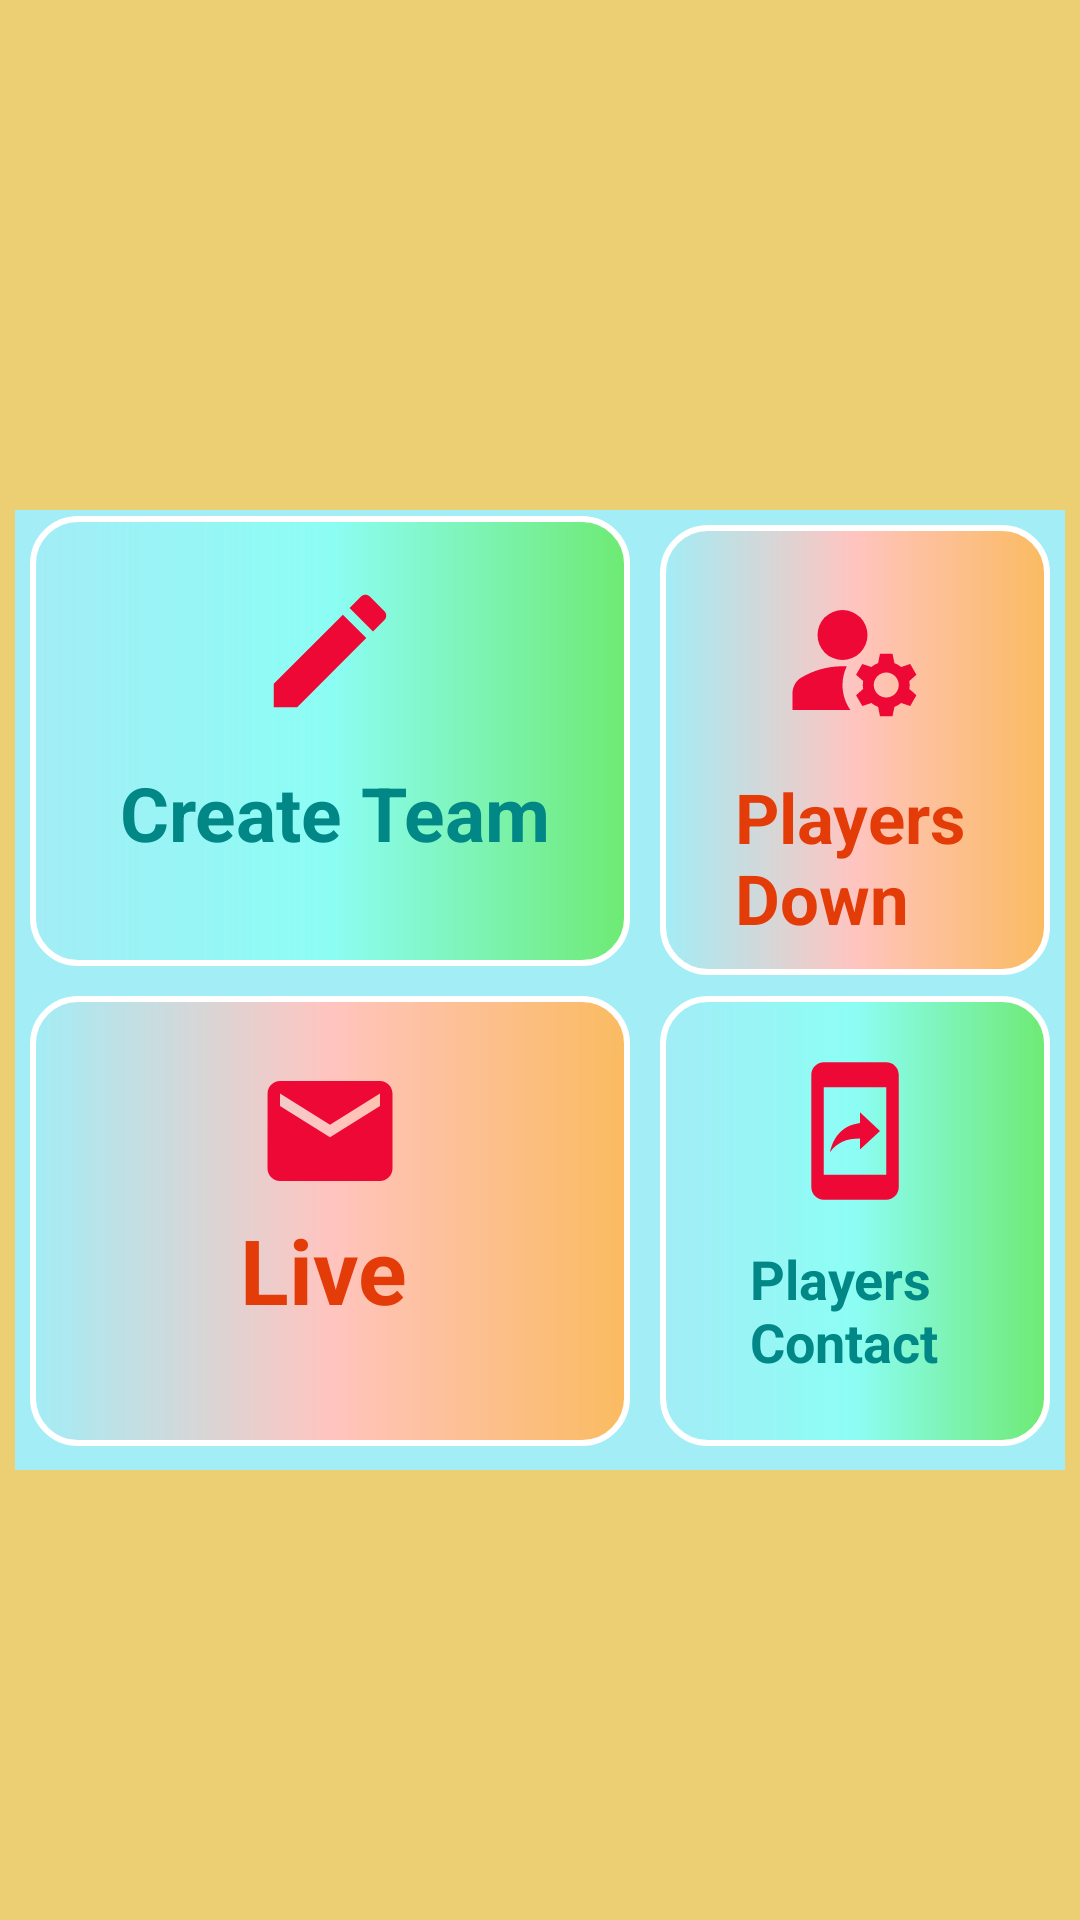

Icons on this 1080x1920 Android screen, each with the point to tap as (x,y):
mail: (330,1131)
man: (855,660)
mobile: (870,1131)
pencil: (339,651)
